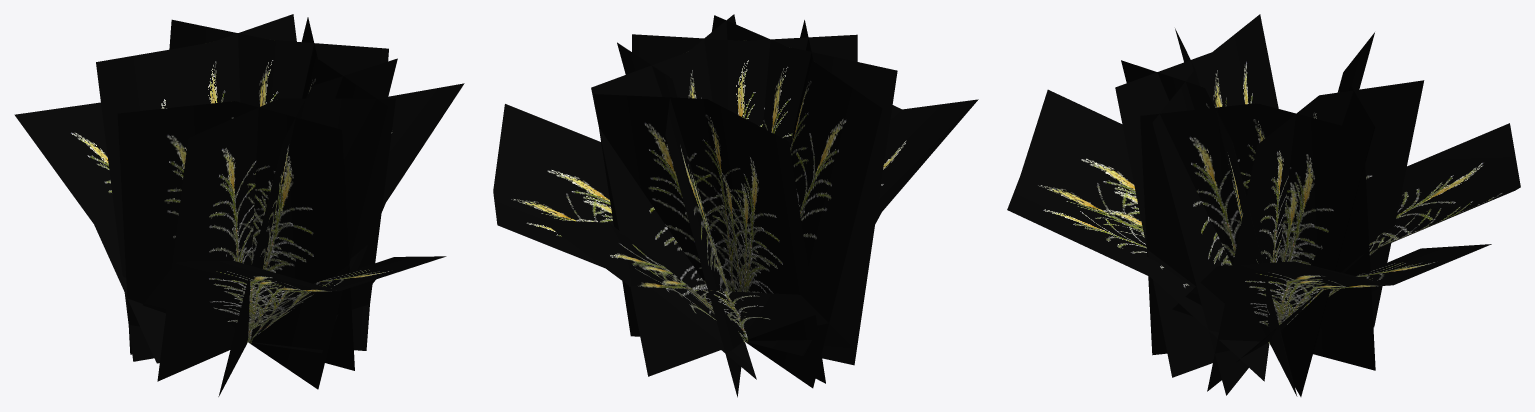
File: FieldGrass_GC.DAE
3 renders of one model, left to right at view 1: azimuth 30°, elevation 25°; view 2: azimuth 150°, elevation 25°; view 3: azimuth 270°, elevation 25°, orthographic.
Visible parts, largest first — view 1: FieldGrass_GC128; view 2: FieldGrass_GC128; view 3: FieldGrass_GC128.
Part boxes in pixels (x1,y1,x2,y2): FieldGrass_GC128: (14, 14, 464, 396); FieldGrass_GC128: (493, 14, 978, 397); FieldGrass_GC128: (1007, 14, 1520, 396).
Size of the model in its own units: 8.55 by 10.52 by 6.27.
